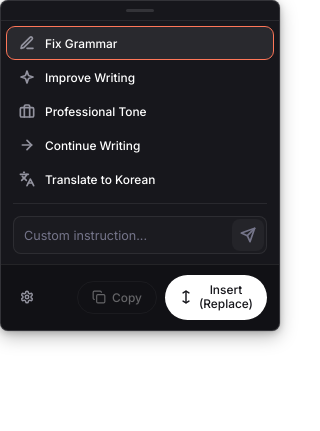
Test: FloatingMenu › AI generation flow › shows AI Output section when generating
Click the button "Fix Grammar" at (81, 43), box [7,27,273,59]
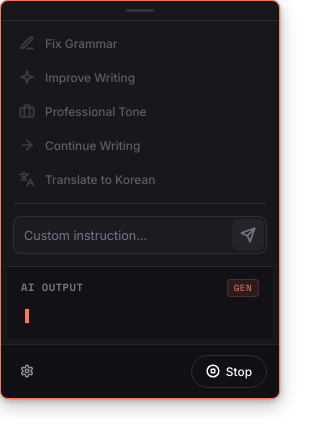
Check: the text "AI Output" is shown, box [21,279,83,295]
